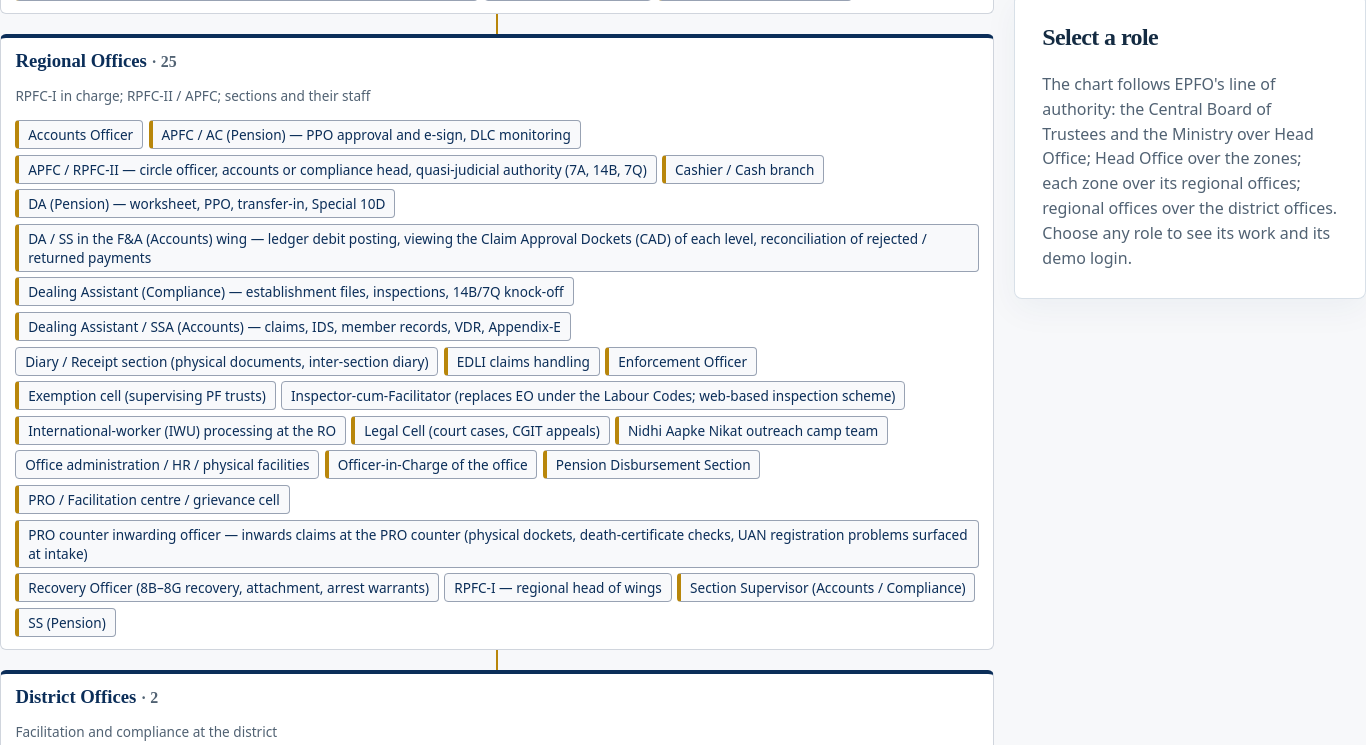
Test: arranges stakeholders by hierarchy and shows a role's login and activities
(page scrolled)
Expected: the heading "Regional Offices · 25" is shown, [15, 50, 177, 71]
Expected: the heading "District Offices · 2" is shown, [15, 686, 158, 707]
Click the button "Enforcement Officer" at (681, 361), box [605, 347, 757, 376]
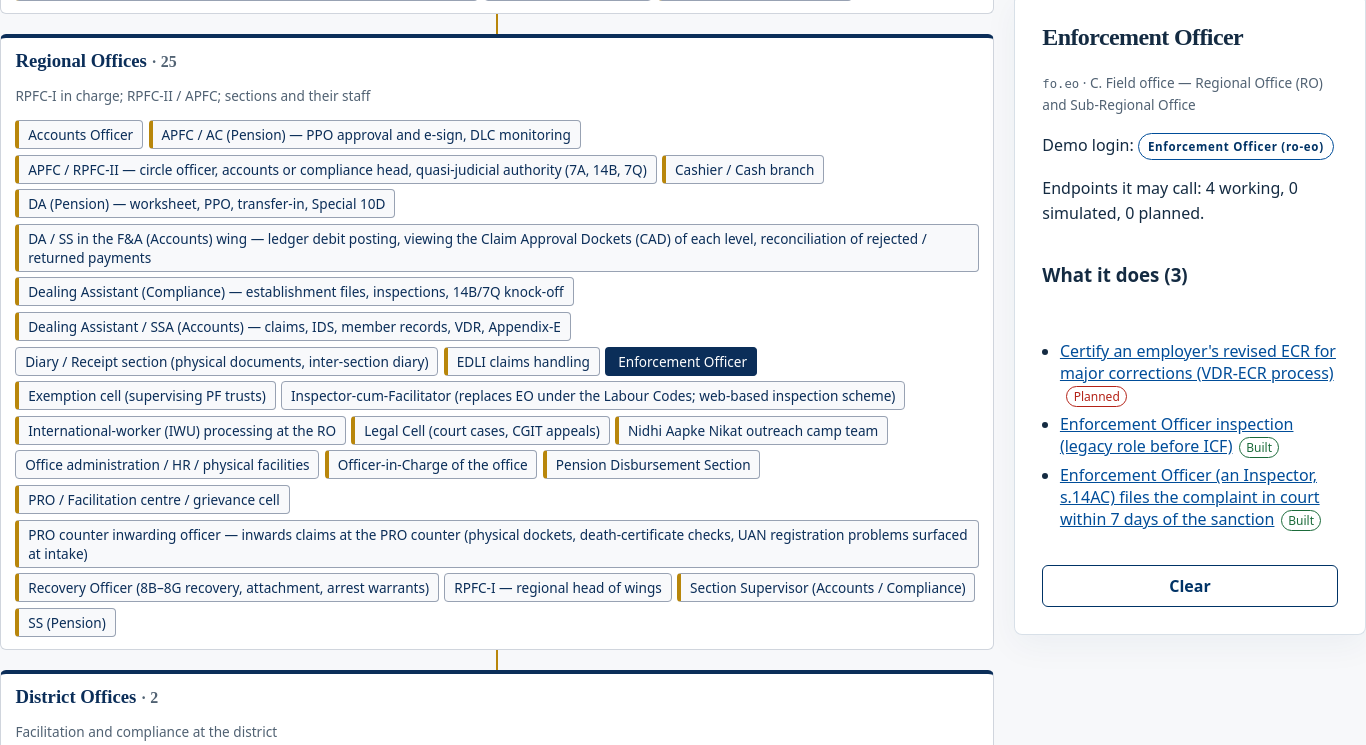
Result: the heading "Enforcement Officer" is shown at [1042, 24, 1243, 50]
Result: the text "Enforcement Officer (ro-eo)" is shown at [1138, 134, 1334, 160]
